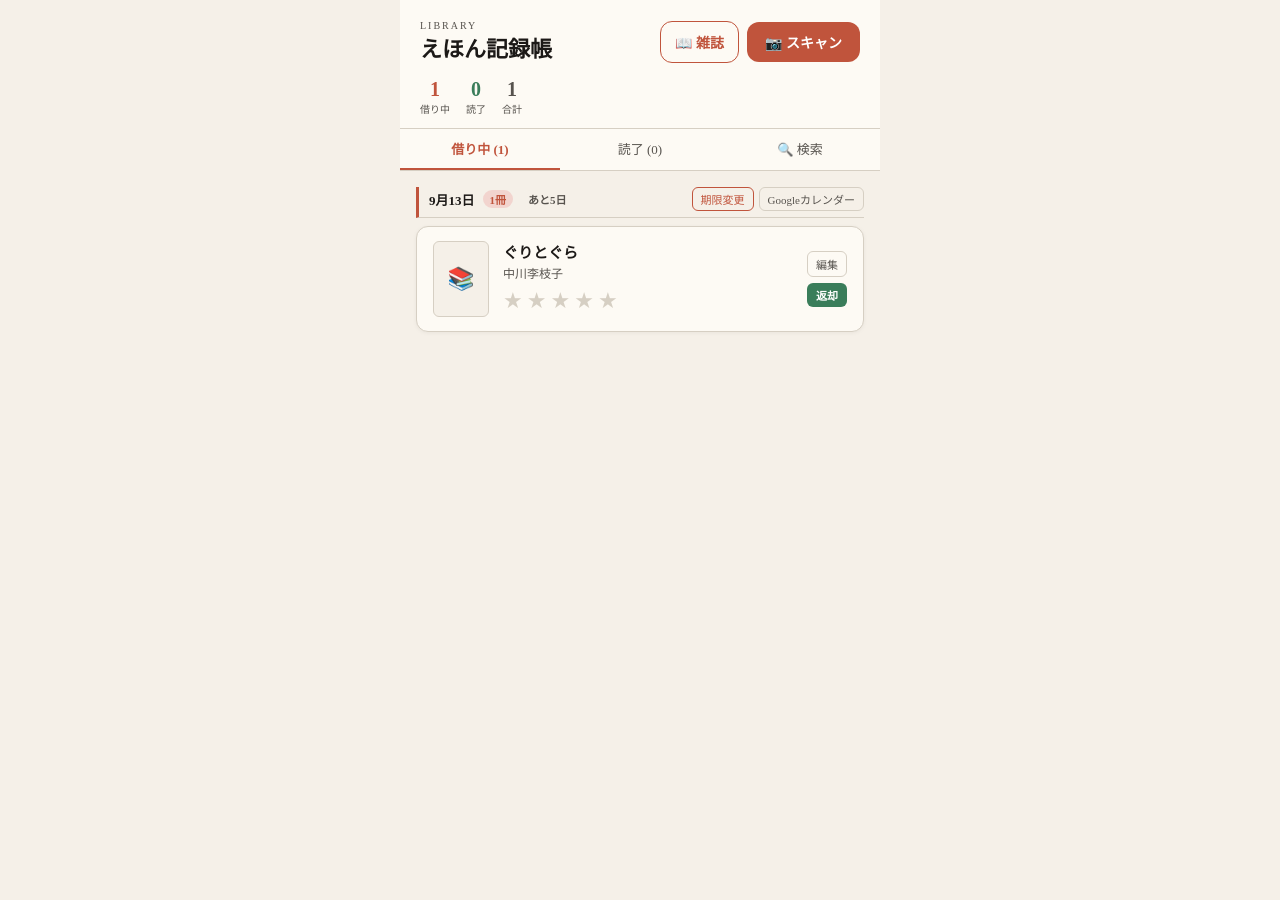
Test: MainApp — registering a book › when an existing book is edited and saved, it should update rather than add
Click the button "編集" at (827, 264), box x1=807 y1=251 x2=847 y2=277
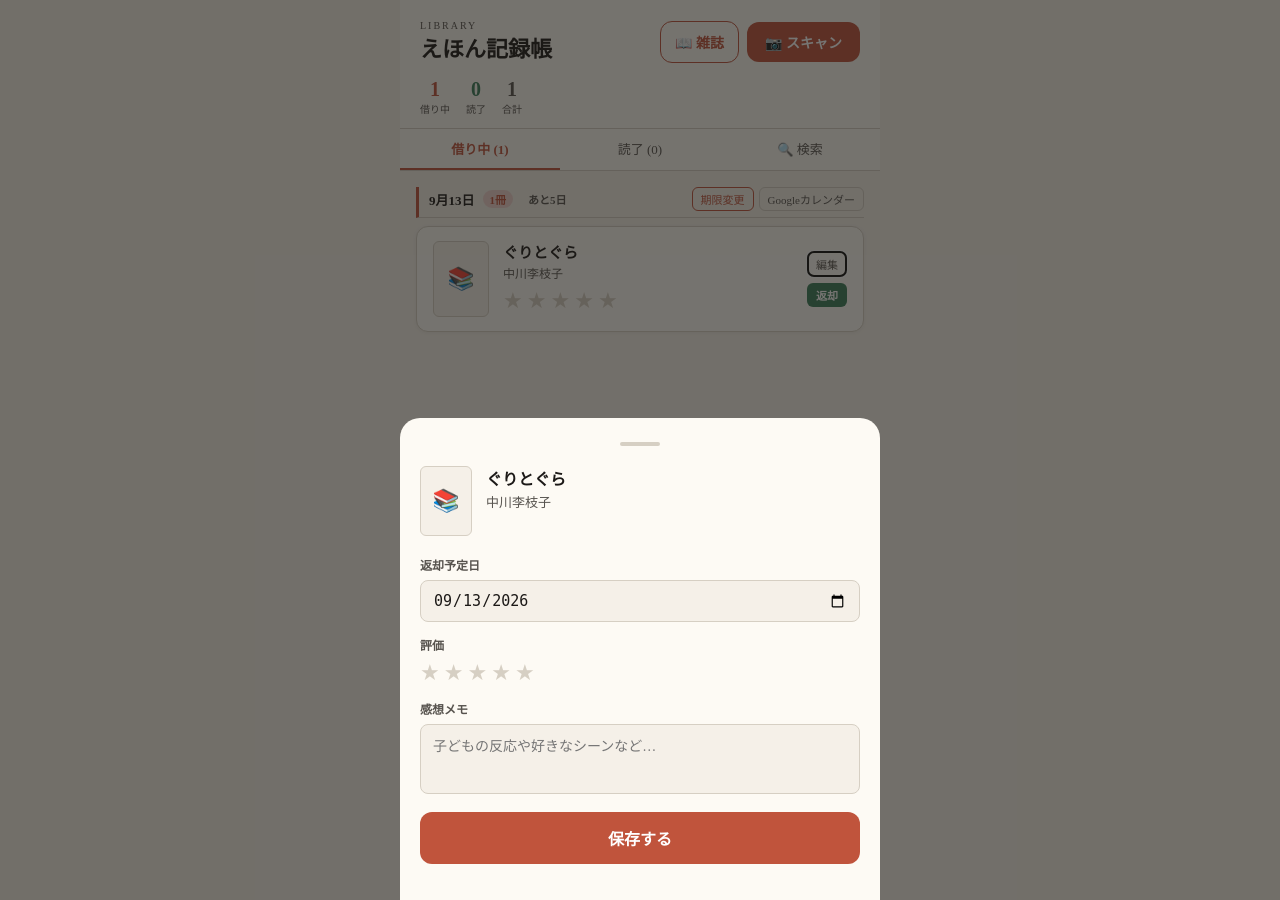
Type "たのしい" into the text box with placeholder "子どもの反応や好きなシーンなど…" at (640, 759), box x1=420 y1=724 x2=860 y2=794
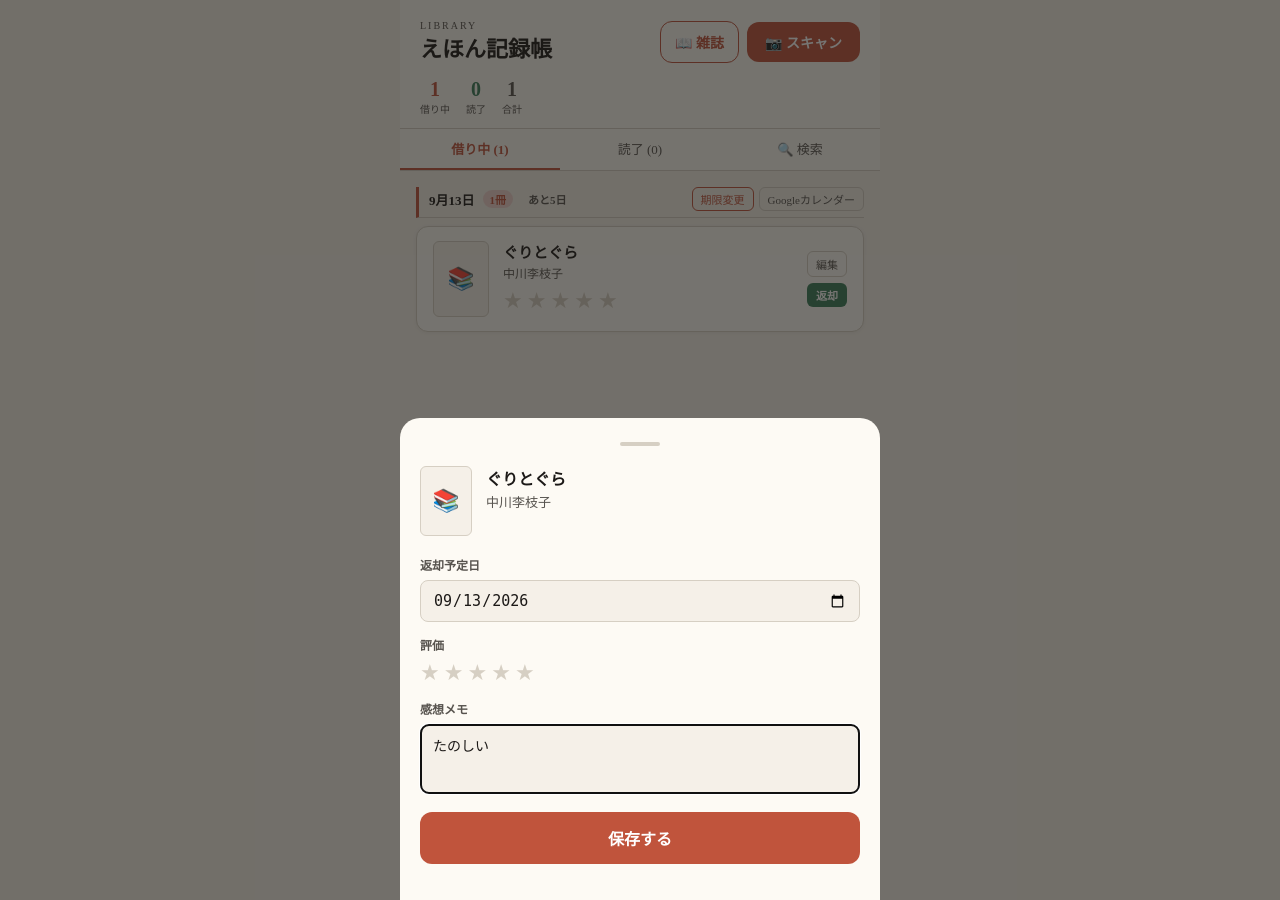
Click the button "保存する" at (640, 838), box x1=420 y1=812 x2=860 y2=864
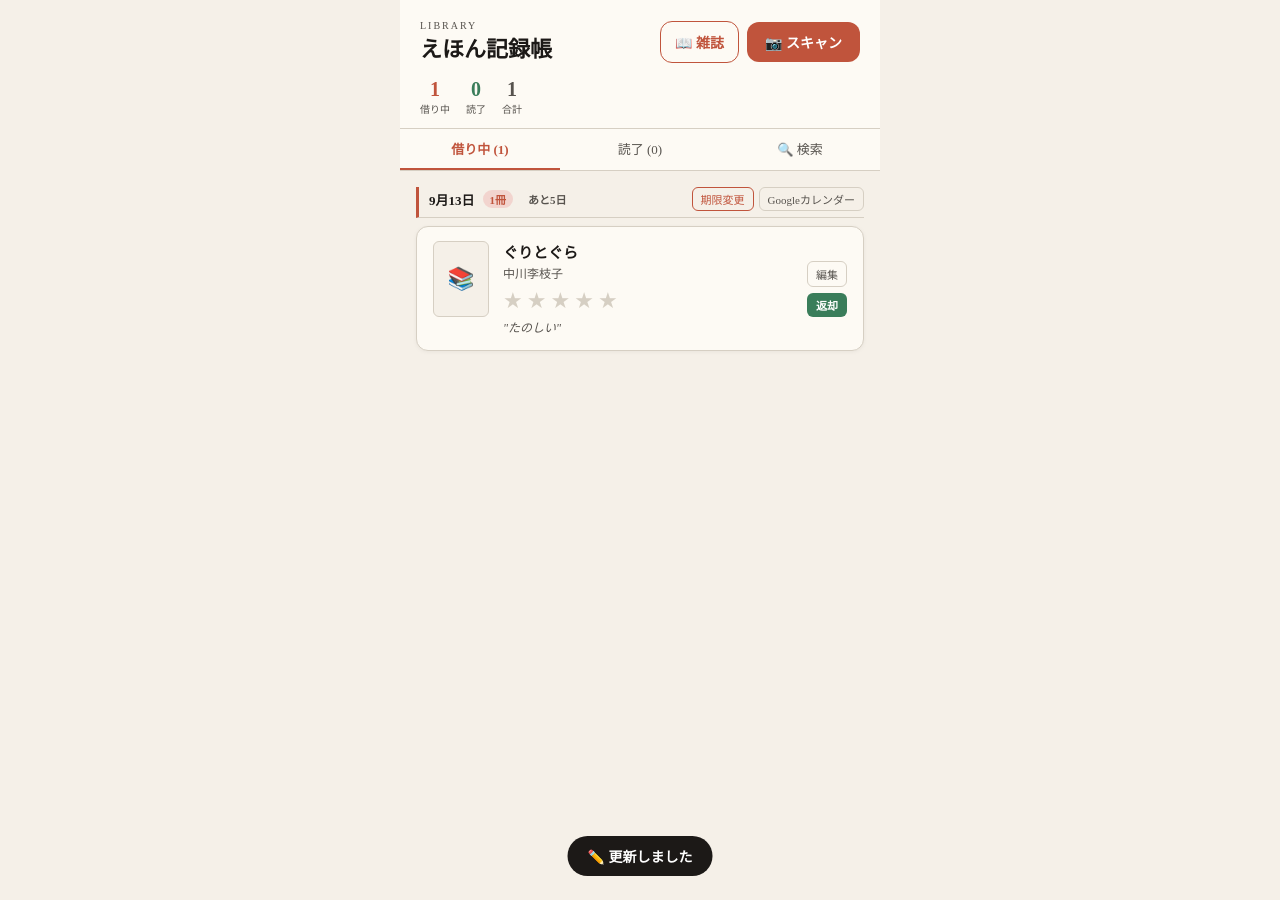
Check: the text "✏️ 更新しました" is shown, box x1=568 y1=836 x2=712 y2=876
